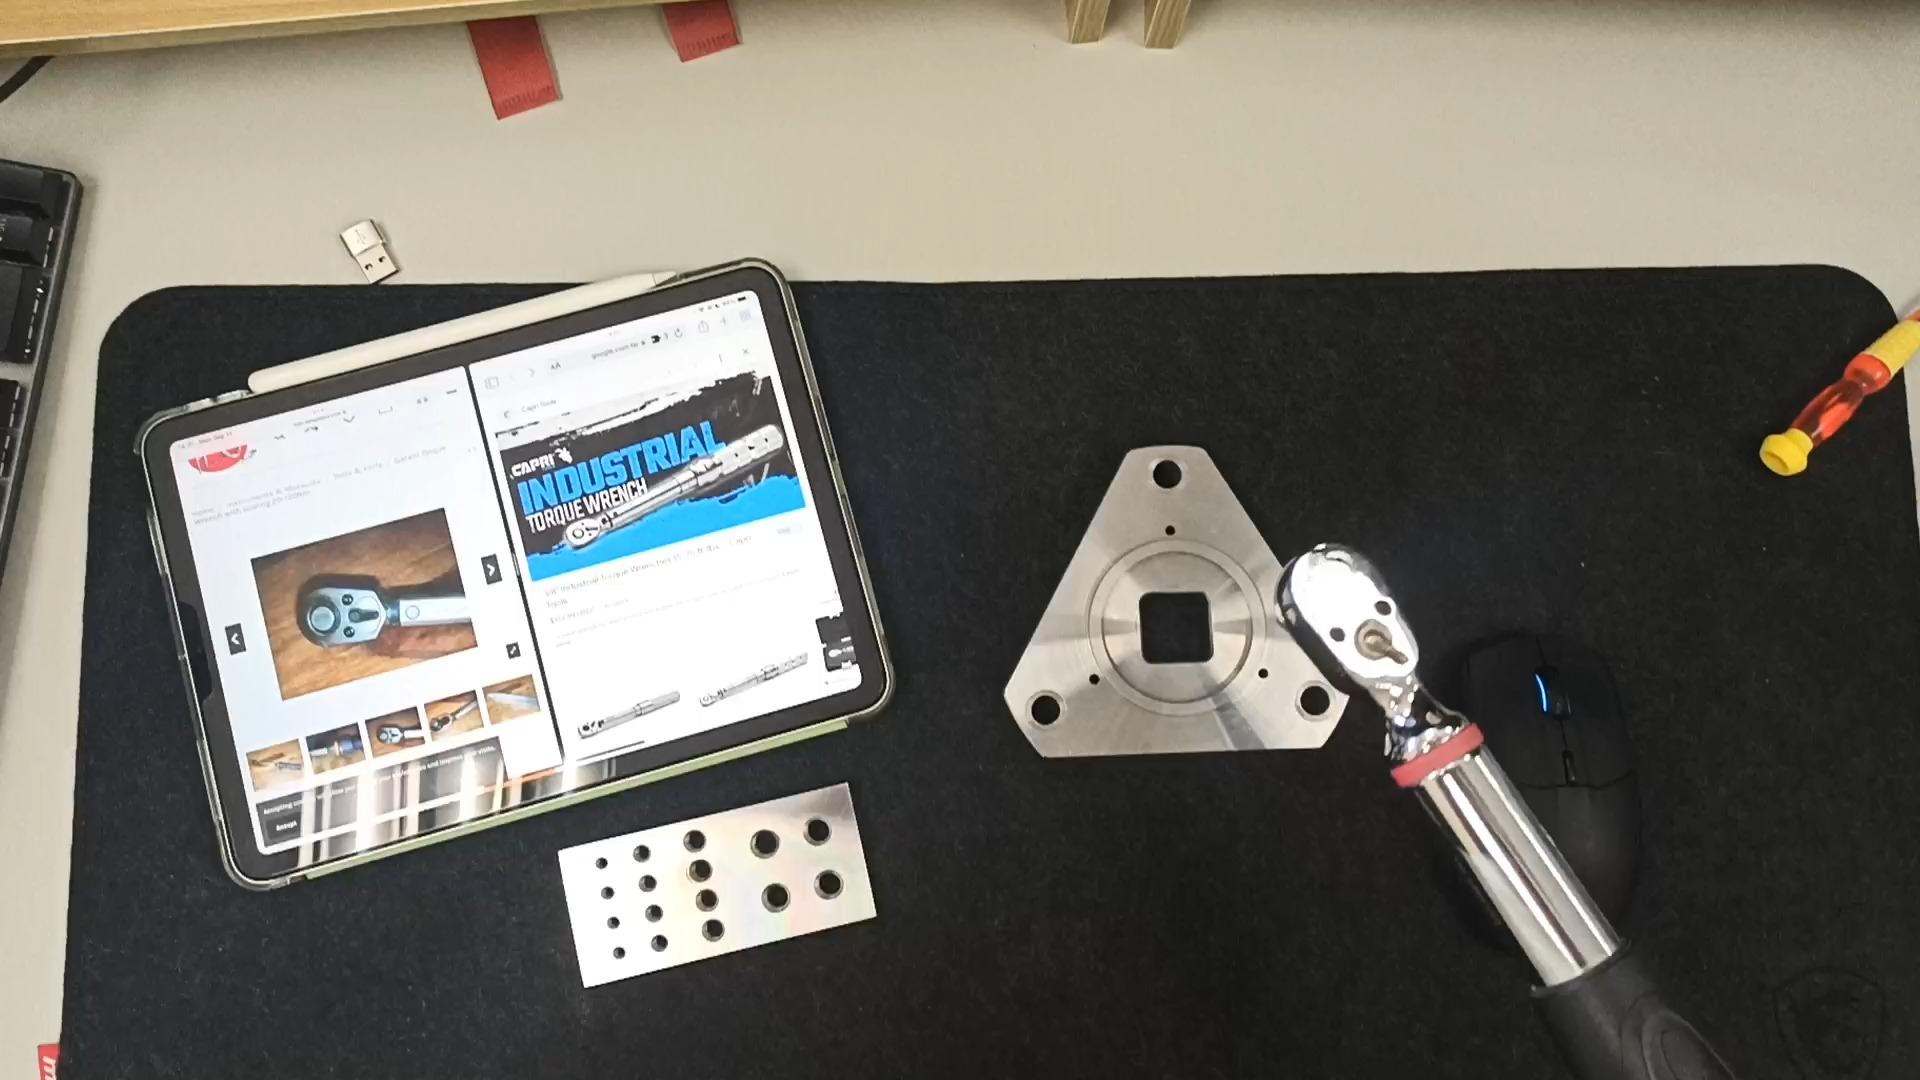Tool: (1280, 548, 1462, 754), (285, 577, 385, 652), (565, 513, 600, 550), (372, 720, 406, 747), (572, 717, 599, 742)
hole: (1142, 455, 1189, 502), (1296, 679, 1341, 726), (1024, 687, 1068, 735), (743, 829, 781, 866), (801, 813, 837, 851), (813, 869, 849, 905), (755, 880, 792, 915), (682, 829, 713, 858), (687, 859, 719, 887), (698, 918, 731, 945), (692, 890, 725, 916), (626, 844, 653, 868), (651, 933, 679, 955), (645, 904, 671, 927), (634, 873, 660, 895), (596, 883, 620, 903), (601, 915, 625, 934), (604, 943, 627, 962), (591, 855, 614, 874)
